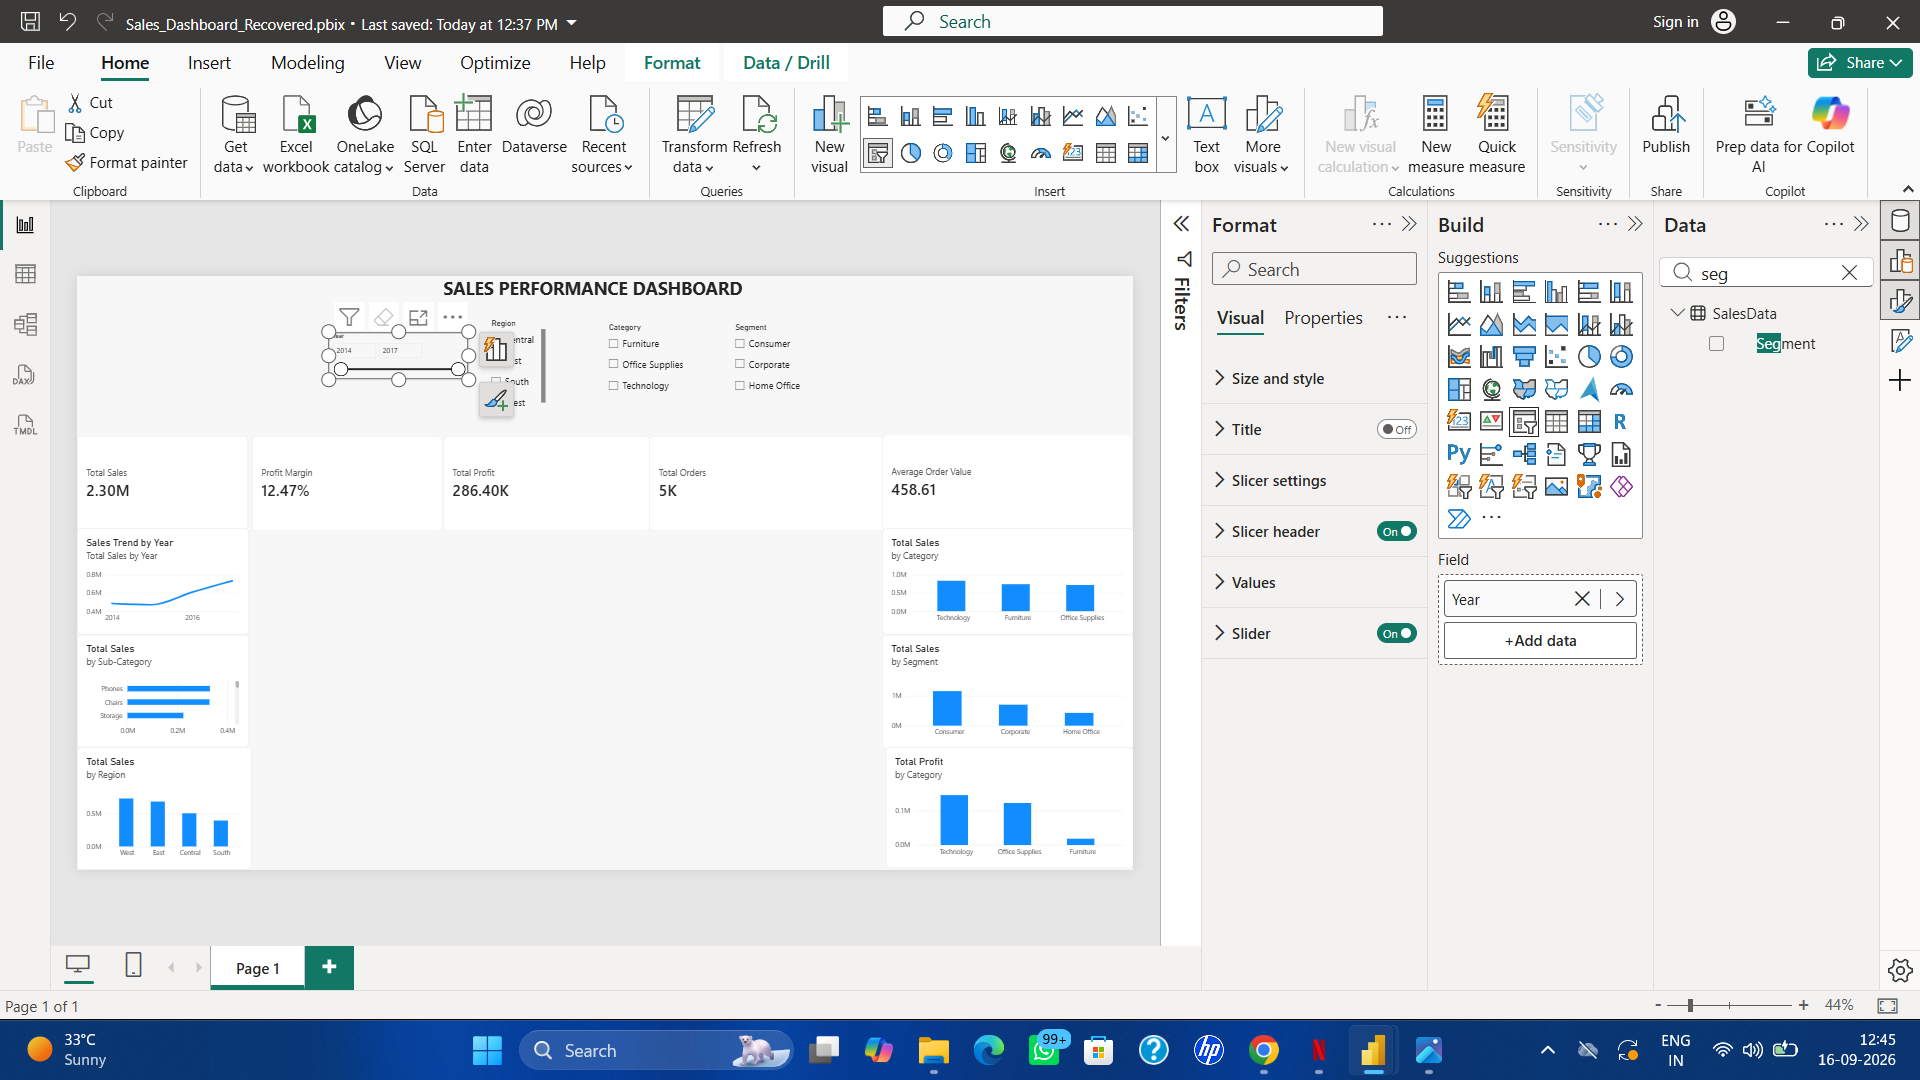

What the dashboard file says about the page in this screenshot:
{"tool":"powerbi","page":{"name":"Page 1","canvas":[1920,1080],"ordinal":0},"visuals":[{"type":"cardVisual","fields":{"Data":["SalesData.Total Sales"]},"box":[0,208.3,311.7,173.3],"z":1000},{"type":"cardVisual","fields":{"Data":["SalesData.Total Profit"]},"box":[658.3,208.3,375,173.3],"z":2000},{"type":"cardVisual","fields":{"Data":["SalesData.Total Orders"]},"box":[1033.3,208.3,430,173.3],"z":3000},{"type":"cardVisual","fields":{"Data":["SalesData.Average Order Value"]},"box":[1463.3,208.3,456.7,173.3],"z":4000},{"type":"cardVisual","fields":{"Data":["DateTable.Profit Margin"]},"box":[311.7,208.3,346.7,173.3],"z":5000},{"type":"lineChart","title":"Sales Trend by Year","fields":{"Category":["DateTable.Year"],"Y":["SalesData.Total Sales"]},"box":[0,381.7,241.7,226.7],"z":6000},{"type":"clusteredColumnChart","fields":{"Category":["SalesData.Category"],"Y":["SalesData.Total Sales"]},"box":[1640,381.7,280,251.7],"z":7000},{"type":"clusteredColumnChart","fields":{"Category":["SalesData.Region"],"Y":["SalesData.Total Sales"]},"box":[0,856.7,241.7,223.3],"z":8000},{"type":"clusteredColumnChart","fields":{"Category":["SalesData.Segment"],"Y":["SalesData.Total Sales"]},"box":[1640,633.3,280,226.7],"z":9000},{"type":"clusteredBarChart","fields":{"Category":["SalesData.Sub-Category"],"Y":["SalesData.Total Sales"]},"box":[0,608.3,241.7,248.3],"z":10000},{"type":"clusteredColumnChart","fields":{"Category":["SalesData.Category"],"Y":["SalesData.Total Profit"]},"box":[1640,860,280,220],"z":11000},{"type":"textbox","box":[665,35,1071.7,56.7],"z":11002},{"type":"slicer","fields":{"Values":["DateTable.Year"]},"box":[1106.7,75,252.9,85.7],"z":11003},{"type":"slicer","fields":{"Values":["SalesData.Region"]},"box":[1390,35,106.7,165],"z":11004},{"type":"slicer","fields":{"Values":["SalesData.Category"]},"box":[1535,43.3,156.7,150],"z":11005},{"type":"slicer","fields":{"Values":["SalesData.Segment"]},"box":[1691.7,43.3,135,150],"z":11006}]}

Visuals, with their boxes on the page's 1920x1080 design canvas (x1, y1, x2, y2). These are canvas units, not pixel positions in the 1920x1080 screenshot, which may show the page scaled, cropped or inside an application window:
cardVisual - SalesData.Total Sales: x1=0 y1=208 x2=312 y2=382
cardVisual - SalesData.Total Profit: x1=658 y1=208 x2=1033 y2=382
cardVisual - SalesData.Total Orders: x1=1033 y1=208 x2=1463 y2=382
cardVisual - SalesData.Average Order Value: x1=1463 y1=208 x2=1920 y2=382
cardVisual - DateTable.Profit Margin: x1=312 y1=208 x2=658 y2=382
"Sales Trend by Year" lineChart: x1=0 y1=382 x2=242 y2=608
clusteredColumnChart - SalesData.Category x SalesData.Total Sales: x1=1640 y1=382 x2=1920 y2=633
clusteredColumnChart - SalesData.Region x SalesData.Total Sales: x1=0 y1=857 x2=242 y2=1080
clusteredColumnChart - SalesData.Segment x SalesData.Total Sales: x1=1640 y1=633 x2=1920 y2=860
clusteredBarChart - SalesData.Sub-Category x SalesData.Total Sales: x1=0 y1=608 x2=242 y2=857
clusteredColumnChart - SalesData.Category x SalesData.Total Profit: x1=1640 y1=860 x2=1920 y2=1080
textbox: x1=665 y1=35 x2=1737 y2=92
slicer - DateTable.Year: x1=1107 y1=75 x2=1360 y2=161
slicer - SalesData.Region: x1=1390 y1=35 x2=1497 y2=200
slicer - SalesData.Category: x1=1535 y1=43 x2=1692 y2=193
slicer - SalesData.Segment: x1=1692 y1=43 x2=1827 y2=193
